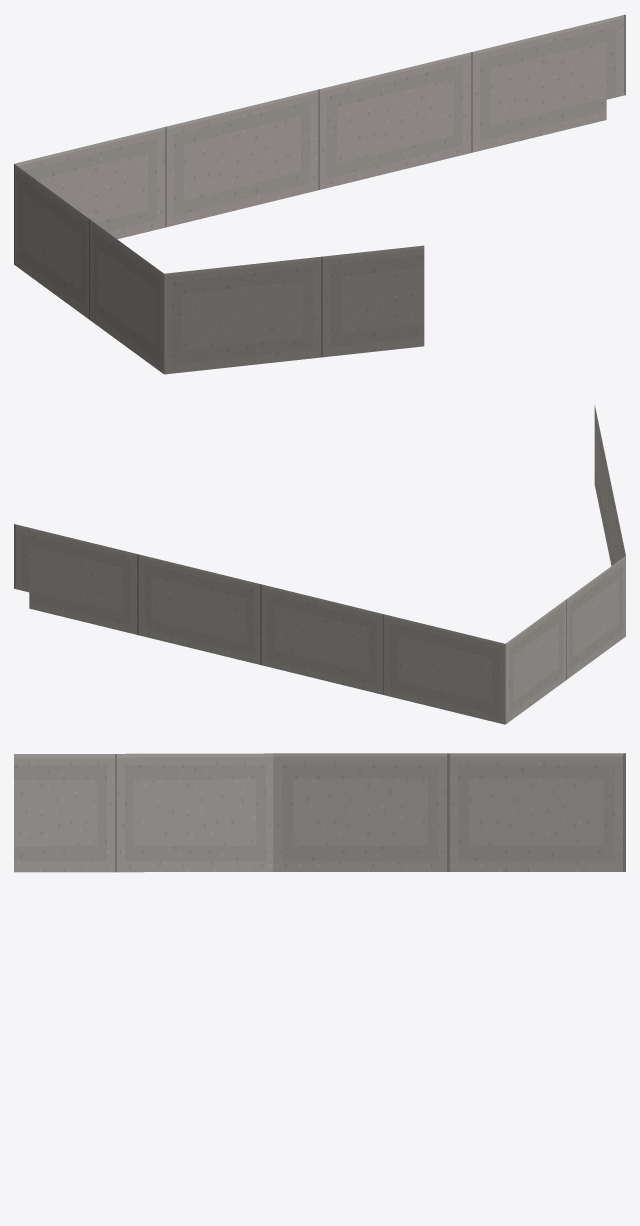
File: kd_stage_135fe0_4_29_bounded.glb
The picture shows the model from 3 angles, top to bottom: view 1: azimuth 30°, elevation 25°; view 2: azimuth 150°, elevation 25°; view 3: azimuth 270°, elevation 25°; orthographic projection. The views are drawn at different scales.
Parts seen in each view (by area): view 1: kd_stage_135fe0_4_29_bounded; view 2: kd_stage_135fe0_4_29_bounded; view 3: kd_stage_135fe0_4_29_bounded.
Boxes of the visible parts, box(x1,y1,x2,y2) form: kd_stage_135fe0_4_29_bounded: box(14, 14, 625, 374); kd_stage_135fe0_4_29_bounded: box(14, 405, 625, 724); kd_stage_135fe0_4_29_bounded: box(14, 753, 625, 872).
Bounding box in the file's own units: 6.35 × 1.72 × 4.69.
1 material, 1 textured.
